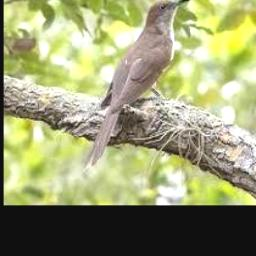Cuckoo: (82, 0, 190, 171)
